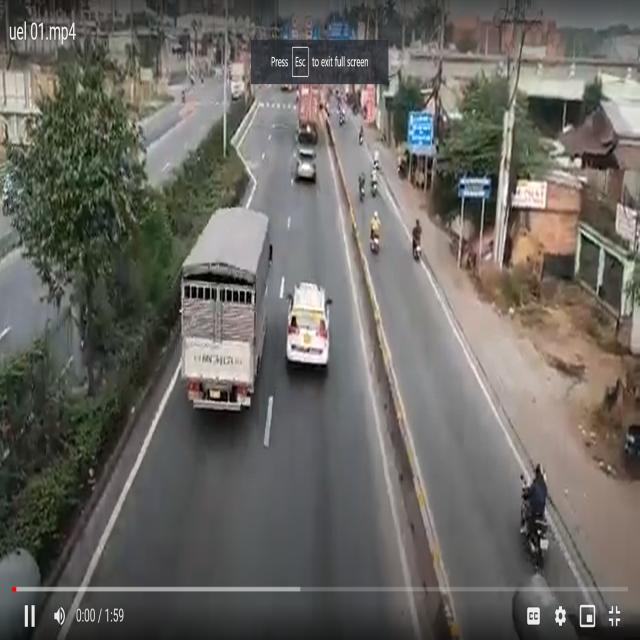car: (288, 276, 329, 370), (298, 145, 314, 194)
motor: (517, 480, 548, 562)
truck: (187, 204, 261, 418), (296, 84, 324, 132)
